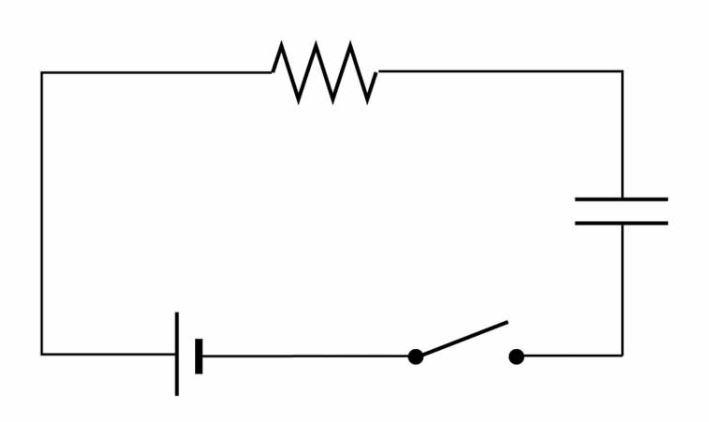Capacitor: (529, 161, 674, 258)
